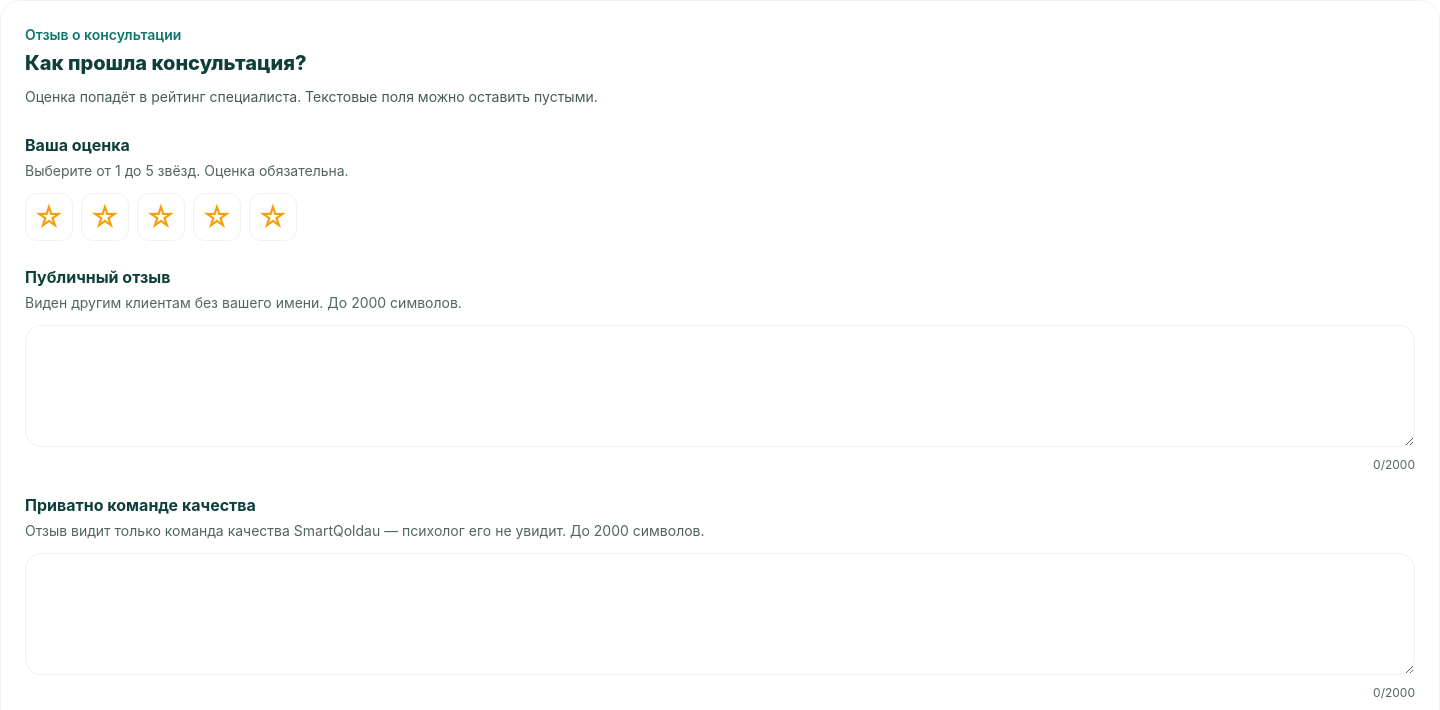
Test: ReviewPanel › смена оценки сбрасывает теги прежней оценки
Click the 4th button "☆".
click(217, 217)  # box [193, 193, 241, 241]
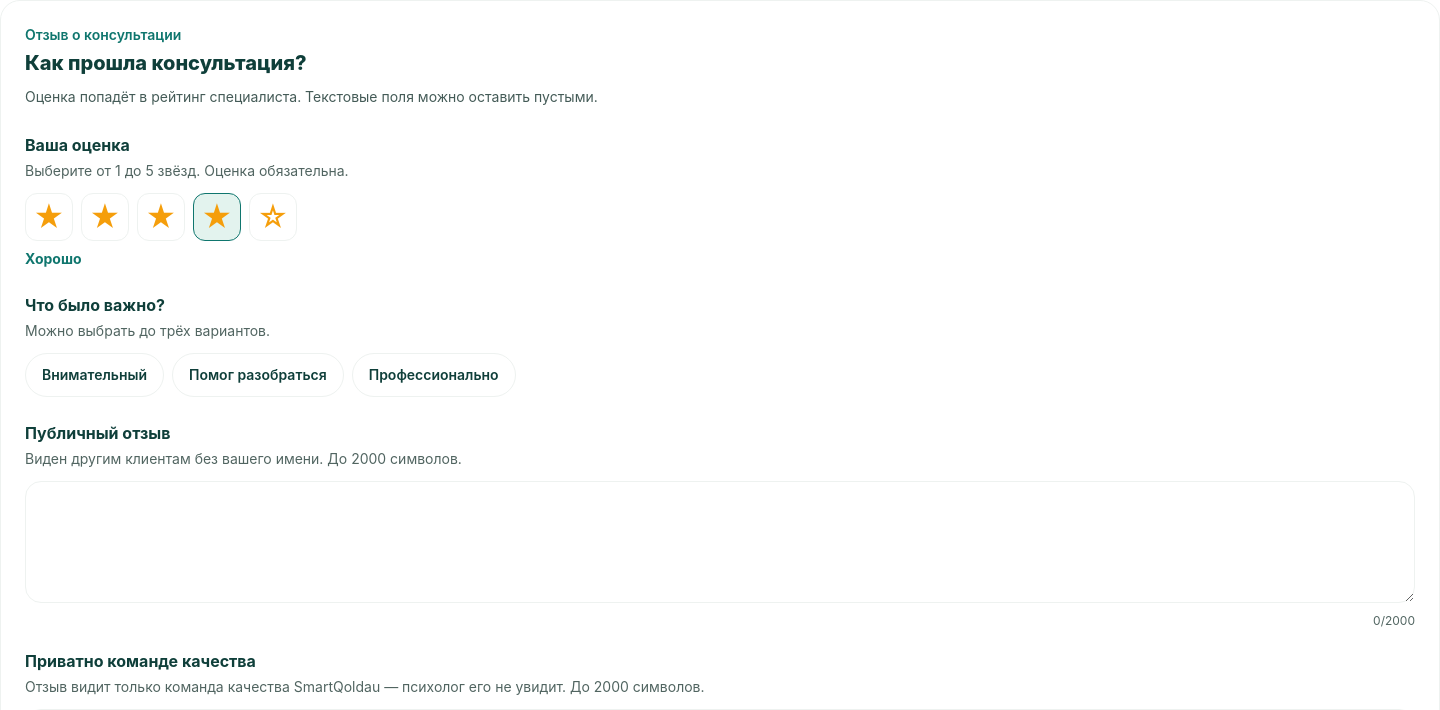
Click the button "Профессионально".
click(434, 375)  # box [352, 353, 516, 397]
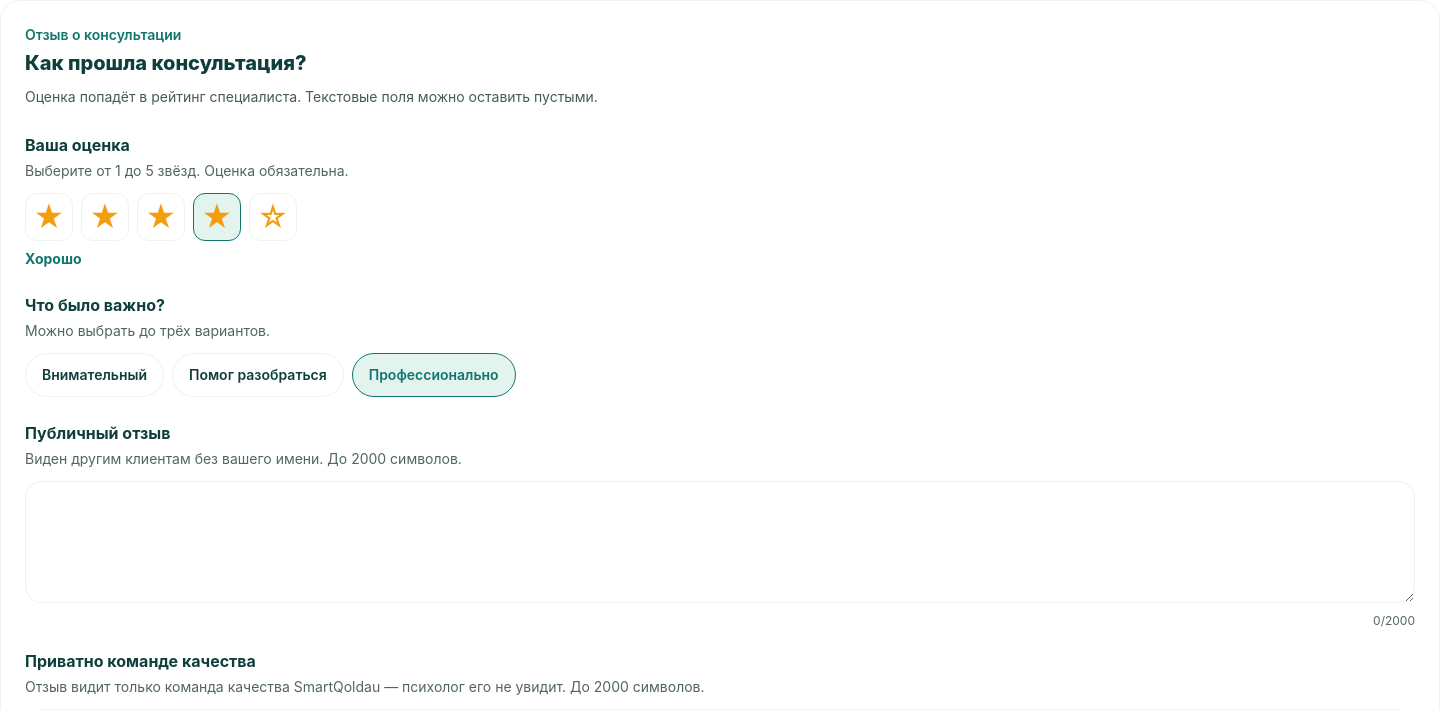
Check: the button "Профессионально" is pressed, box [352, 353, 516, 397]
Click the 1st button "★".
click(49, 217)  # box [25, 193, 73, 241]
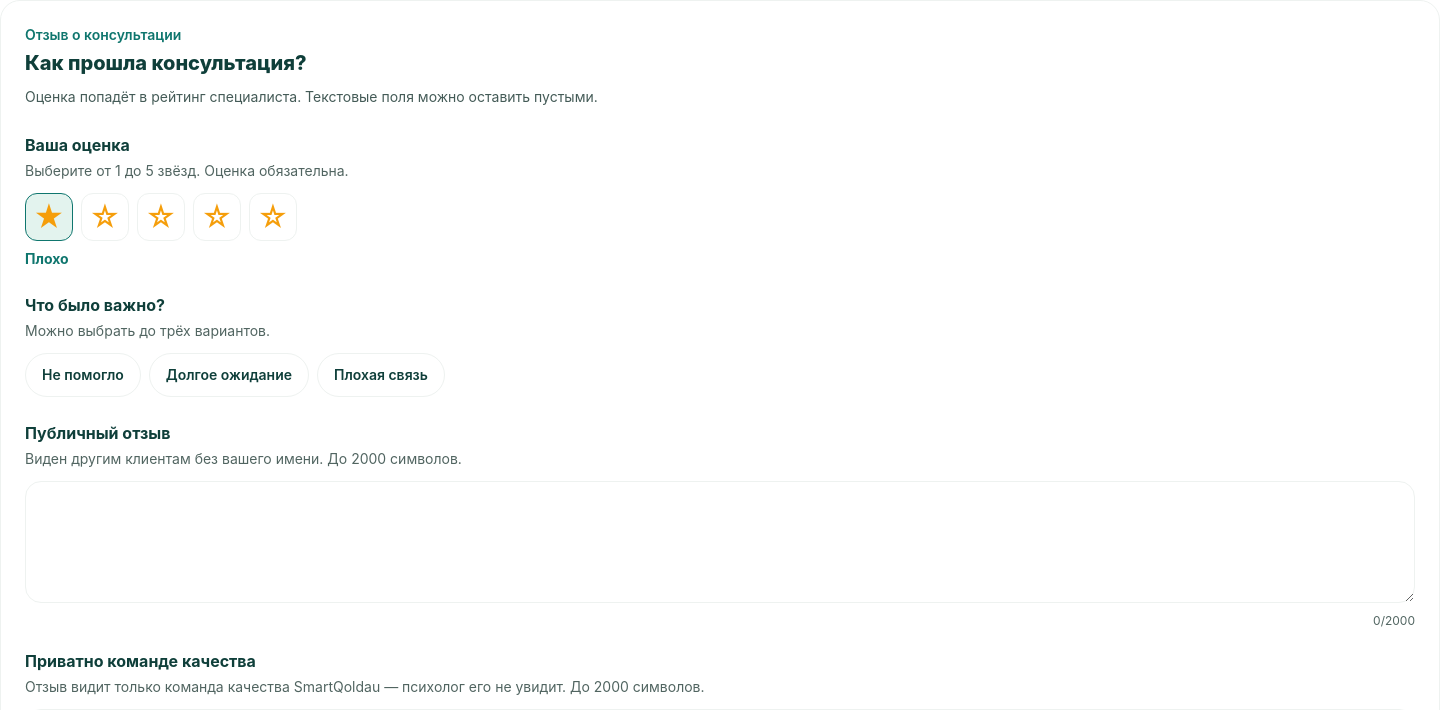
Check: the button "Профессионально" is gone
